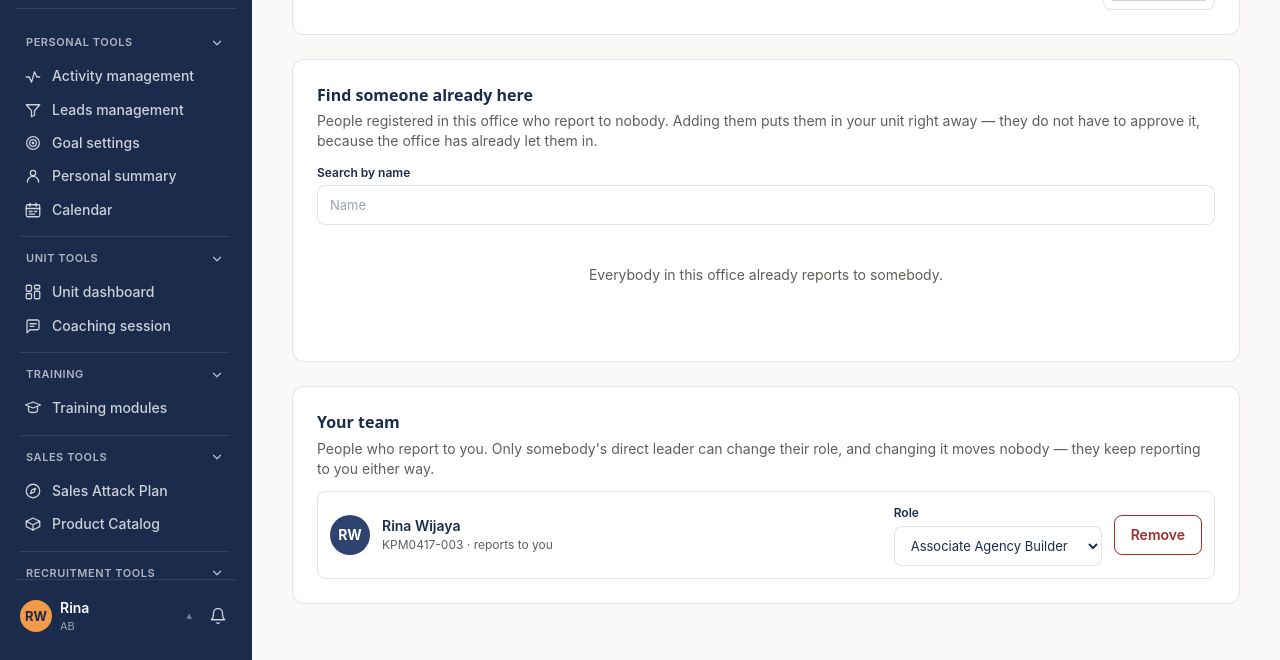
Test: inviting people (P3-T4) › changing a role (P3-T6) › explains a demotion the other way round
(page scrolled)
Select "Agent" in the dropdown labelled "Role" at (998, 546), box [894,526,1102,566]
(page scrolled)
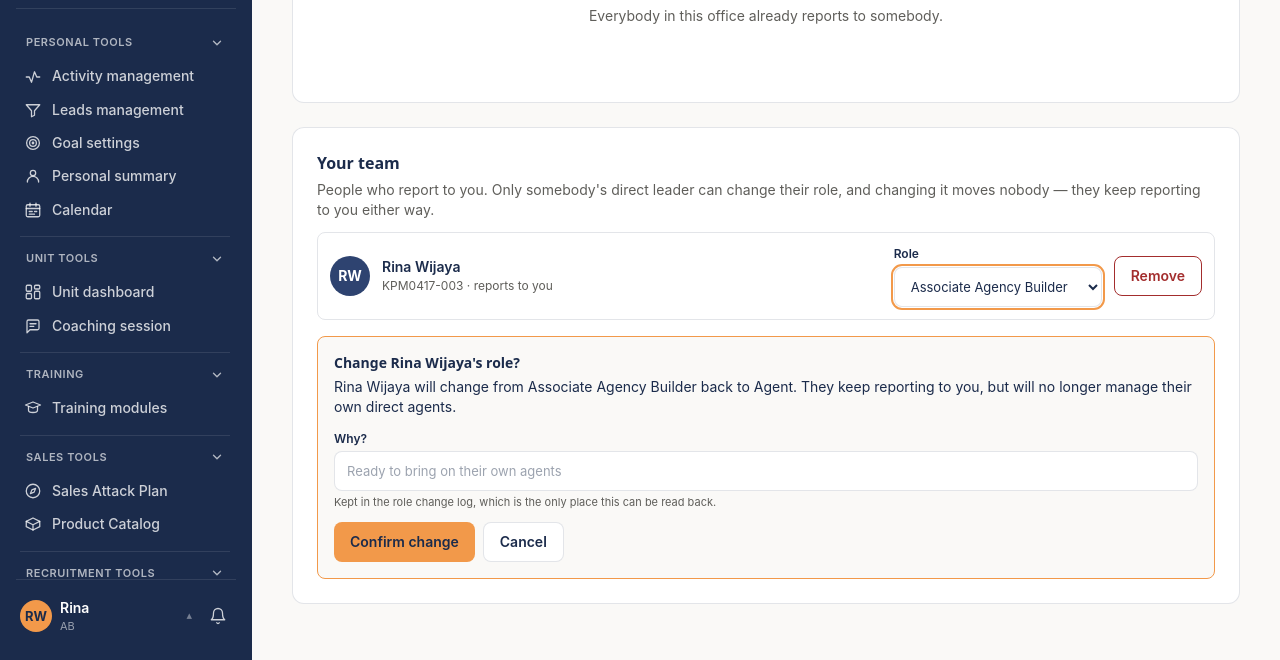
Expected: the text "no longer manage their own direct agents" is shown, [334,378,1192,415]
